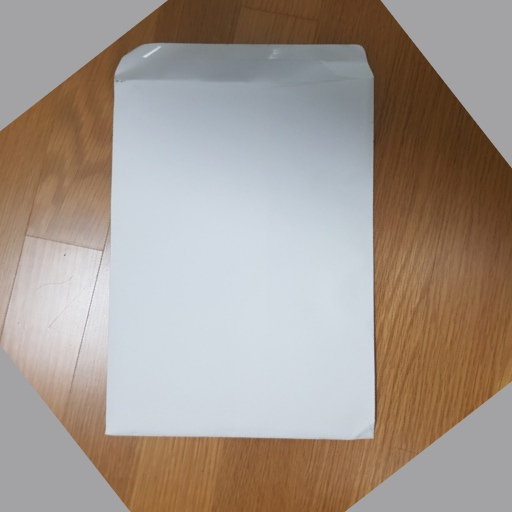Paper_2: (102, 35, 378, 455)
